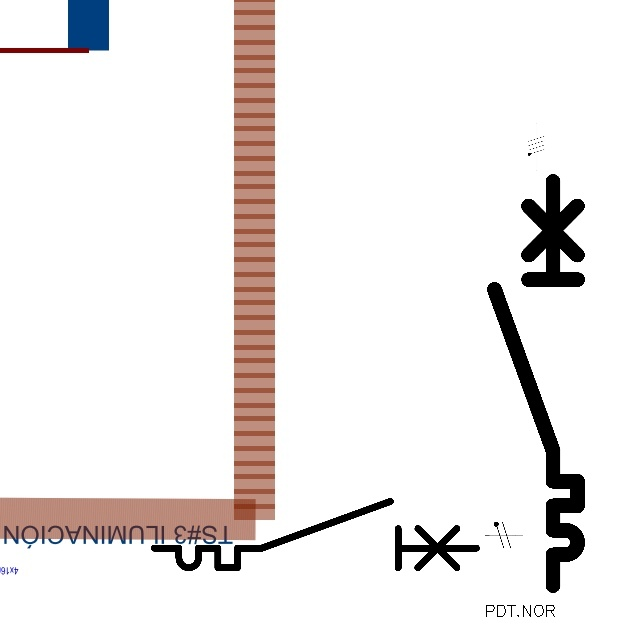interruptor_termomagnetico: (484, 171, 588, 596), (146, 493, 484, 576)
